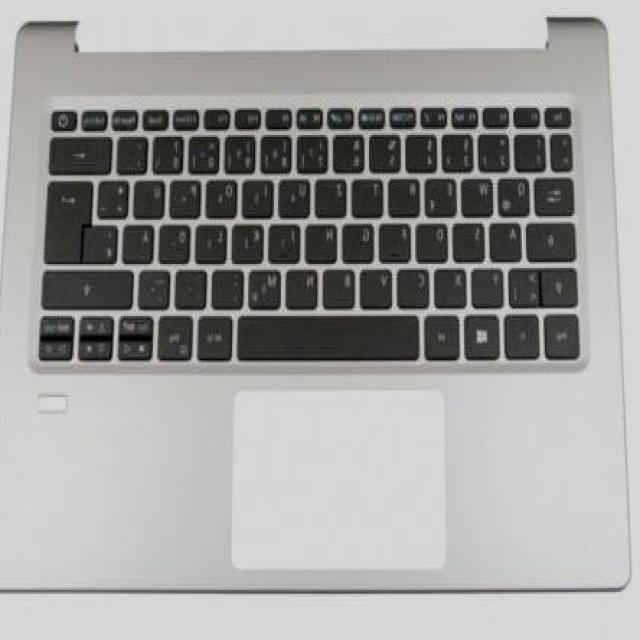0: (191, 134, 224, 172)
1: (516, 132, 548, 170)
2: (480, 132, 512, 170)
3: (444, 132, 476, 170)
4: (408, 132, 440, 170)
5: (372, 132, 404, 170)
6: (336, 132, 366, 170)
7: (300, 132, 330, 170)
8: (262, 132, 294, 172), (226, 132, 258, 172)
a: (492, 220, 525, 260)
accent: (118, 134, 150, 172)
ae: (124, 222, 157, 260)
alt-left: (427, 313, 463, 361)
altgr-right: (196, 313, 236, 363)
b: (325, 267, 358, 307)
c: (400, 265, 433, 307)
caret: (551, 132, 574, 170)
comma: (214, 266, 247, 310)
d: (418, 220, 451, 260)
del: (51, 134, 116, 172)
e: (427, 176, 460, 214)
enter: (48, 180, 94, 261)
f: (381, 220, 414, 260)
g: (345, 220, 377, 260)
h: (307, 220, 340, 260)
hash: (85, 222, 121, 262)
i: (243, 176, 277, 218)
j: (271, 222, 303, 262)
k: (233, 222, 267, 262)
keyboard: (29, 89, 594, 371)
l: (198, 222, 230, 260)
less: (511, 266, 544, 308)
m: (251, 266, 284, 308)
minus: (140, 266, 173, 310)
n: (289, 266, 322, 308)
o: (208, 176, 241, 216)
oe: (160, 220, 193, 260)
p: (172, 176, 204, 216)
plus: (100, 178, 132, 216)
point: (176, 266, 210, 310)
q: (500, 174, 532, 214)
r: (391, 176, 423, 216)
s: (454, 220, 487, 260)
shift-left: (543, 265, 581, 309)
shift-lock: (528, 220, 580, 260)
shift-right: (43, 266, 137, 308)
space: (238, 313, 422, 361)
ss: (154, 134, 186, 172)
strg-left: (545, 313, 581, 359)
t: (353, 176, 386, 216)
tab: (537, 174, 577, 214)
u: (281, 176, 313, 216)
ue: (136, 176, 168, 218)
v: (362, 265, 395, 307)
w: (463, 176, 496, 214)
x: (437, 265, 470, 307)
y: (473, 265, 506, 305)
z: (317, 176, 349, 216)
